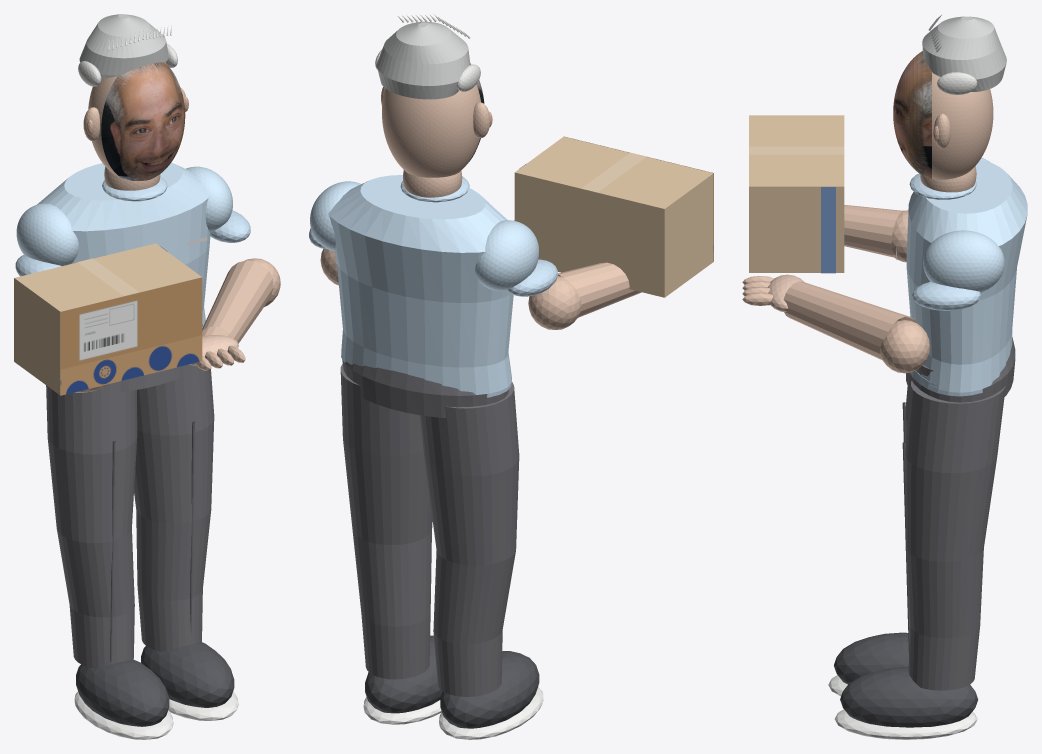
The model's file is persoon_met_pakket.glb.
The picture shows the model from 3 angles, left to right: view 1: azimuth 30°, elevation 25°; view 2: azimuth 150°, elevation 25°; view 3: azimuth 270°, elevation 25°; orthographic projection. The views are drawn at different scales.
Parts seen in each view (by area): view 1: leg_L, leg_R, parcel_front_design, pale_blue_tshirt, delivery_parcel_3d, face_from_photo_curved_surface, shoe_-1, shoe_1, silver_hair_quiff, right_forearm, shirt_sleeve_-1, shirt_sleeve_1 (+13 smaller); view 2: pale_blue_tshirt, leg_L, delivery_parcel_3d, leg_R, head_3d, silver_hair_quiff, pants_waist, shoe_-1, shirt_sleeve_-1, shoe_1, left_forearm, left_elbow (+6 smaller); view 3: leg_R, pale_blue_tshirt, delivery_parcel_3d, shoe_1, right_forearm, silver_hair_quiff, head_3d, shirt_sleeve_1, face_from_photo_curved_surface, shoe_-1, left_forearm, right_elbow (+10 smaller).
Part boxes in pixels (x1,y1,x2,y2): leg_L: (46,381,137,668); leg_R: (134,364,214,651); parcel_front_design: (60,277,202,395); pale_blue_tshirt: (37,162,210,327); delivery_parcel_3d: (14,243,201,395); face_from_photo_curved_surface: (101,62,185,180); shoe_-1: (76,659,169,726); shoe_1: (141,642,234,707); silver_hair_quiff: (79,14,168,79); right_forearm: (202,260,273,343); shirt_sleeve_-1: (16,203,78,266); shirt_sleeve_1: (186,166,232,232); pale_blue_tshirt: (328,175,513,394); leg_L: (420,382,519,696); delivery_parcel_3d: (514,136,713,297); leg_R: (340,363,432,679); head_3d: (382,84,480,177); silver_hair_quiff: (376,21,470,99); pants_waist: (342,360,508,417); shoe_-1: (440,651,539,728); shirt_sleeve_-1: (475,220,538,290); shoe_1: (365,635,442,713); left_forearm: (558,262,641,317); left_elbow: (528,276,581,329); leg_R: (905,381,1005,690); pale_blue_tshirt: (906,160,1027,392); delivery_parcel_3d: (749,115,844,272); shoe_1: (840,666,978,727); right_forearm: (783,281,916,359); silver_hair_quiff: (922,16,1006,91); head_3d: (932,72,993,179); shirt_sleeve_1: (923,230,1004,292); face_from_photo_curved_surface: (893,51,931,179); shoe_-1: (834,632,908,684); left_forearm: (844,205,903,257); right_elbow: (880,320,930,373).
Bounding box in the file's own units: 0.826 × 1.82 × 0.6772.
17 materials, 2 textured.
